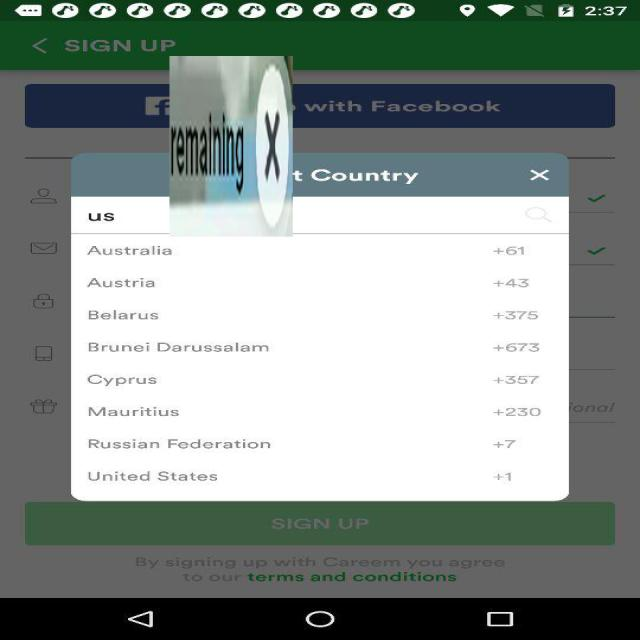misdirection: (169, 56, 293, 237)
